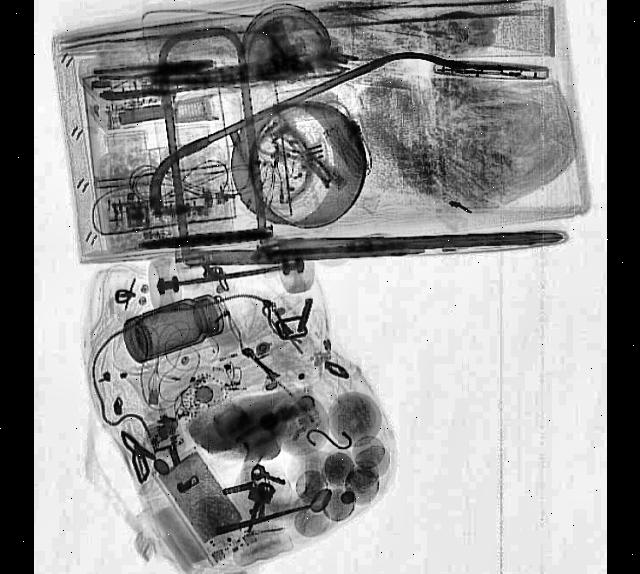Pliers: (94, 58, 212, 84)
